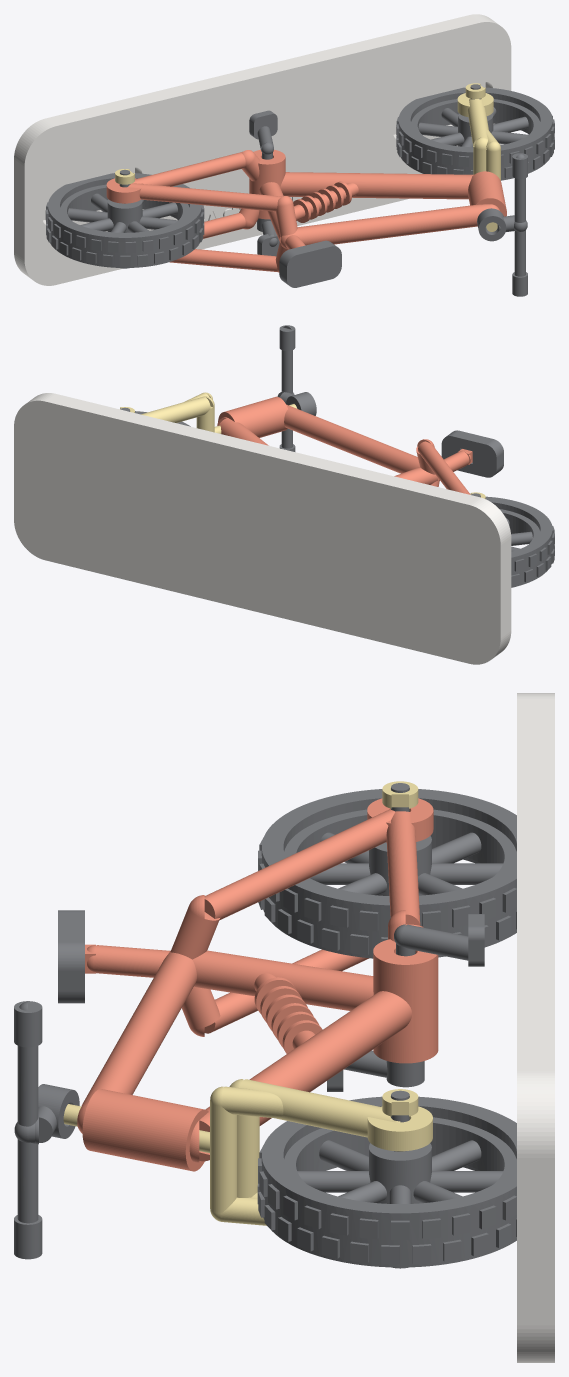
Rendered from dayrally-mini-flow.glb.
3 views of the same model, one above another, from view 1: azimuth 30°, elevation 25°; view 2: azimuth 150°, elevation 25°; view 3: azimuth 270°, elevation 25° (orthographic). The views are drawn at different scales.
Parts seen in each view (by area): view 1: mini-flow-display-base__1, mini-flow-frame__2, mini-wheel-25p5__8, mini-wheel-25p5__11, mini-flow-cockpit__4, mini-flow-saddle__5, mini-flow-fork__3, mini-flow-crank-r__6, mini-flow-crank-l__7; view 2: mini-flow-display-base__1, mini-flow-frame__2, mini-wheel-25p5__8, mini-flow-saddle__5, mini-flow-cockpit__4, mini-flow-fork__3; view 3: mini-flow-frame__2, mini-wheel-25p5__11, mini-wheel-25p5__8, mini-flow-display-base__1, mini-flow-fork__3, mini-flow-cockpit__4, mini-flow-crank-r__6, mini-flow-saddle__5, mini-flow-crank-l__7.
Boxes of the visible parts, box(x1,y1,x2,y2) form: mini-flow-display-base__1: box(14, 14, 511, 285); mini-flow-frame__2: box(106, 149, 506, 272); mini-wheel-25p5__8: box(45, 173, 204, 267); mini-wheel-25p5__11: box(396, 87, 554, 180); mini-flow-cockpit__4: box(477, 153, 527, 296); mini-flow-saddle__5: box(279, 240, 341, 287); mini-flow-fork__3: box(457, 93, 500, 231); mini-flow-crank-r__6: box(249, 110, 277, 159); mini-flow-crank-l__7: box(257, 218, 279, 256); mini-flow-display-base__1: box(14, 393, 511, 664); mini-flow-frame__2: box(217, 396, 472, 494); mini-wheel-25p5__8: box(485, 496, 554, 587); mini-flow-saddle__5: box(441, 430, 503, 477); mini-flow-cockpit__4: box(277, 325, 316, 451); mini-flow-fork__3: box(141, 392, 297, 433); mini-flow-frame__2: box(77, 798, 438, 1171); mini-wheel-25p5__11: box(257, 1096, 516, 1267); mini-wheel-25p5__8: box(258, 789, 516, 958); mini-flow-display-base__1: box(517, 693, 554, 1362); mini-flow-fork__3: box(63, 1079, 432, 1225); mini-flow-cockpit__4: box(14, 1001, 79, 1259); mini-flow-crank-r__6: box(394, 914, 484, 966); mini-flow-saddle__5: box(58, 910, 84, 1003); mini-flow-crank-l__7: box(327, 1050, 424, 1091).
Bounding box in the file's own units: 0.1865 × 0.058 × 0.0995.
